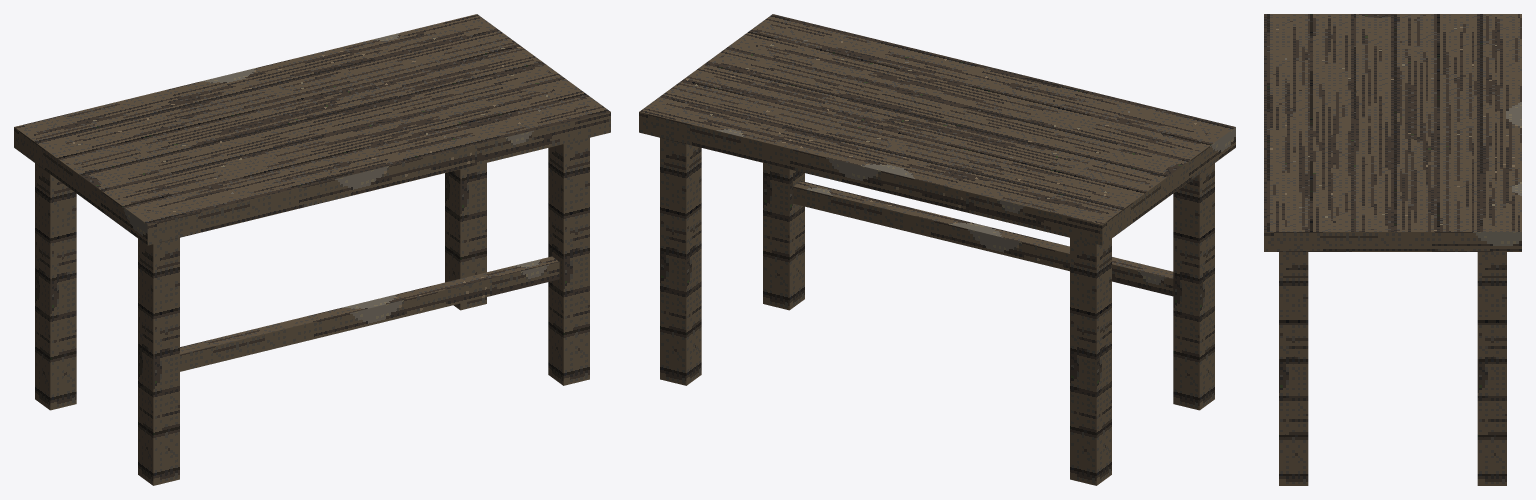
Rendered from SM_Prop_TableWood_01.glb.
3 renders of one model, left to right at view 1: azimuth 30°, elevation 25°; view 2: azimuth 150°, elevation 25°; view 3: azimuth 270°, elevation 25°, orthographic. The views are drawn at different scales.
Visible parts, largest first — view 1: SM_Prop_TableWood_01; view 2: SM_Prop_TableWood_01; view 3: SM_Prop_TableWood_01.
Boxes of the visible parts, x1=… form: SM_Prop_TableWood_01: x1=14, y1=14, x2=610, y2=485; SM_Prop_TableWood_01: x1=639, y1=14, x2=1235, y2=485; SM_Prop_TableWood_01: x1=1264, y1=14, x2=1521, y2=485.
Bounding box in the file's own units: 1.4 × 0.78 × 0.7.
Materials: 1 (1 with a texture image).
